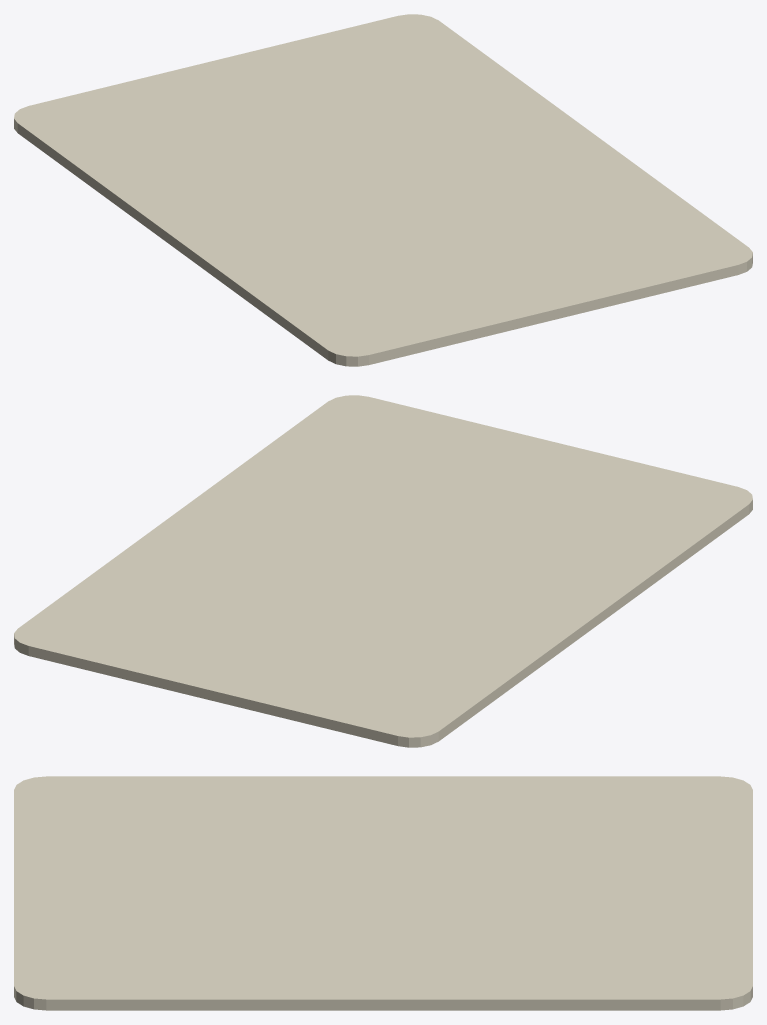
File: gemcourt-card.glb
3 renders of one model, top to bottom at view 1: azimuth 30°, elevation 25°; view 2: azimuth 150°, elevation 25°; view 3: azimuth 270°, elevation 25°, orthographic. The views are drawn at different scales.
Parts seen in each view (by area): view 1: GEO-card_stock; view 2: GEO-card_stock; view 3: GEO-card_stock.
Part boxes in pixels (<box>): GEO-card_stock: <box>14,14,752,366</box>; GEO-card_stock: <box>14,395,752,747</box>; GEO-card_stock: <box>14,776,752,1010</box>.
Bounding box in the file's own units: 1.22 × 0.028 × 1.71.
